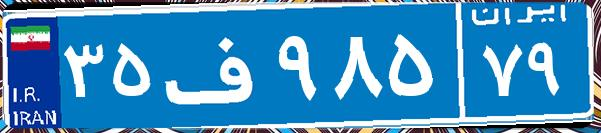3: (57, 26, 110, 107)
5: (385, 28, 445, 110), (110, 28, 158, 105)
7: (475, 38, 525, 113)
8: (330, 28, 385, 110)
9: (273, 28, 330, 110), (525, 38, 570, 115)
ف: (158, 15, 273, 115)
